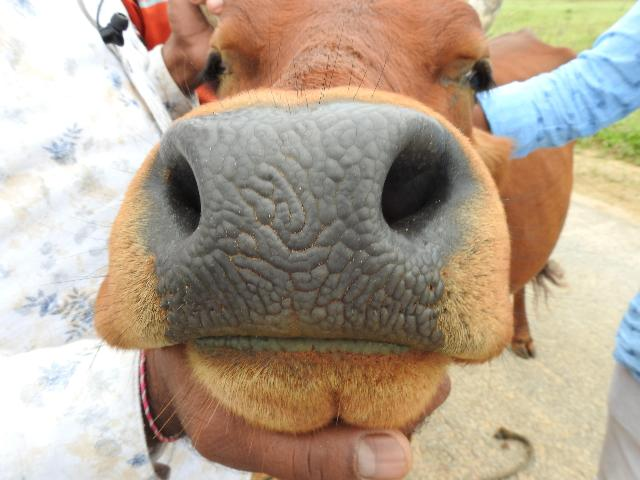Muzzle: (170, 107, 428, 338)
